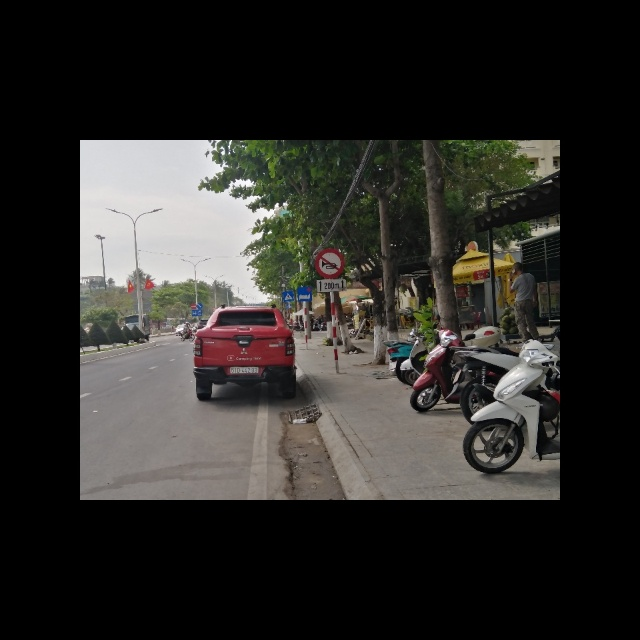Bệnh viện: (298, 286, 312, 302)
Cấm bấm còi: (314, 248, 345, 280)
Đường dành cho người đi bộ: (282, 290, 294, 301)
